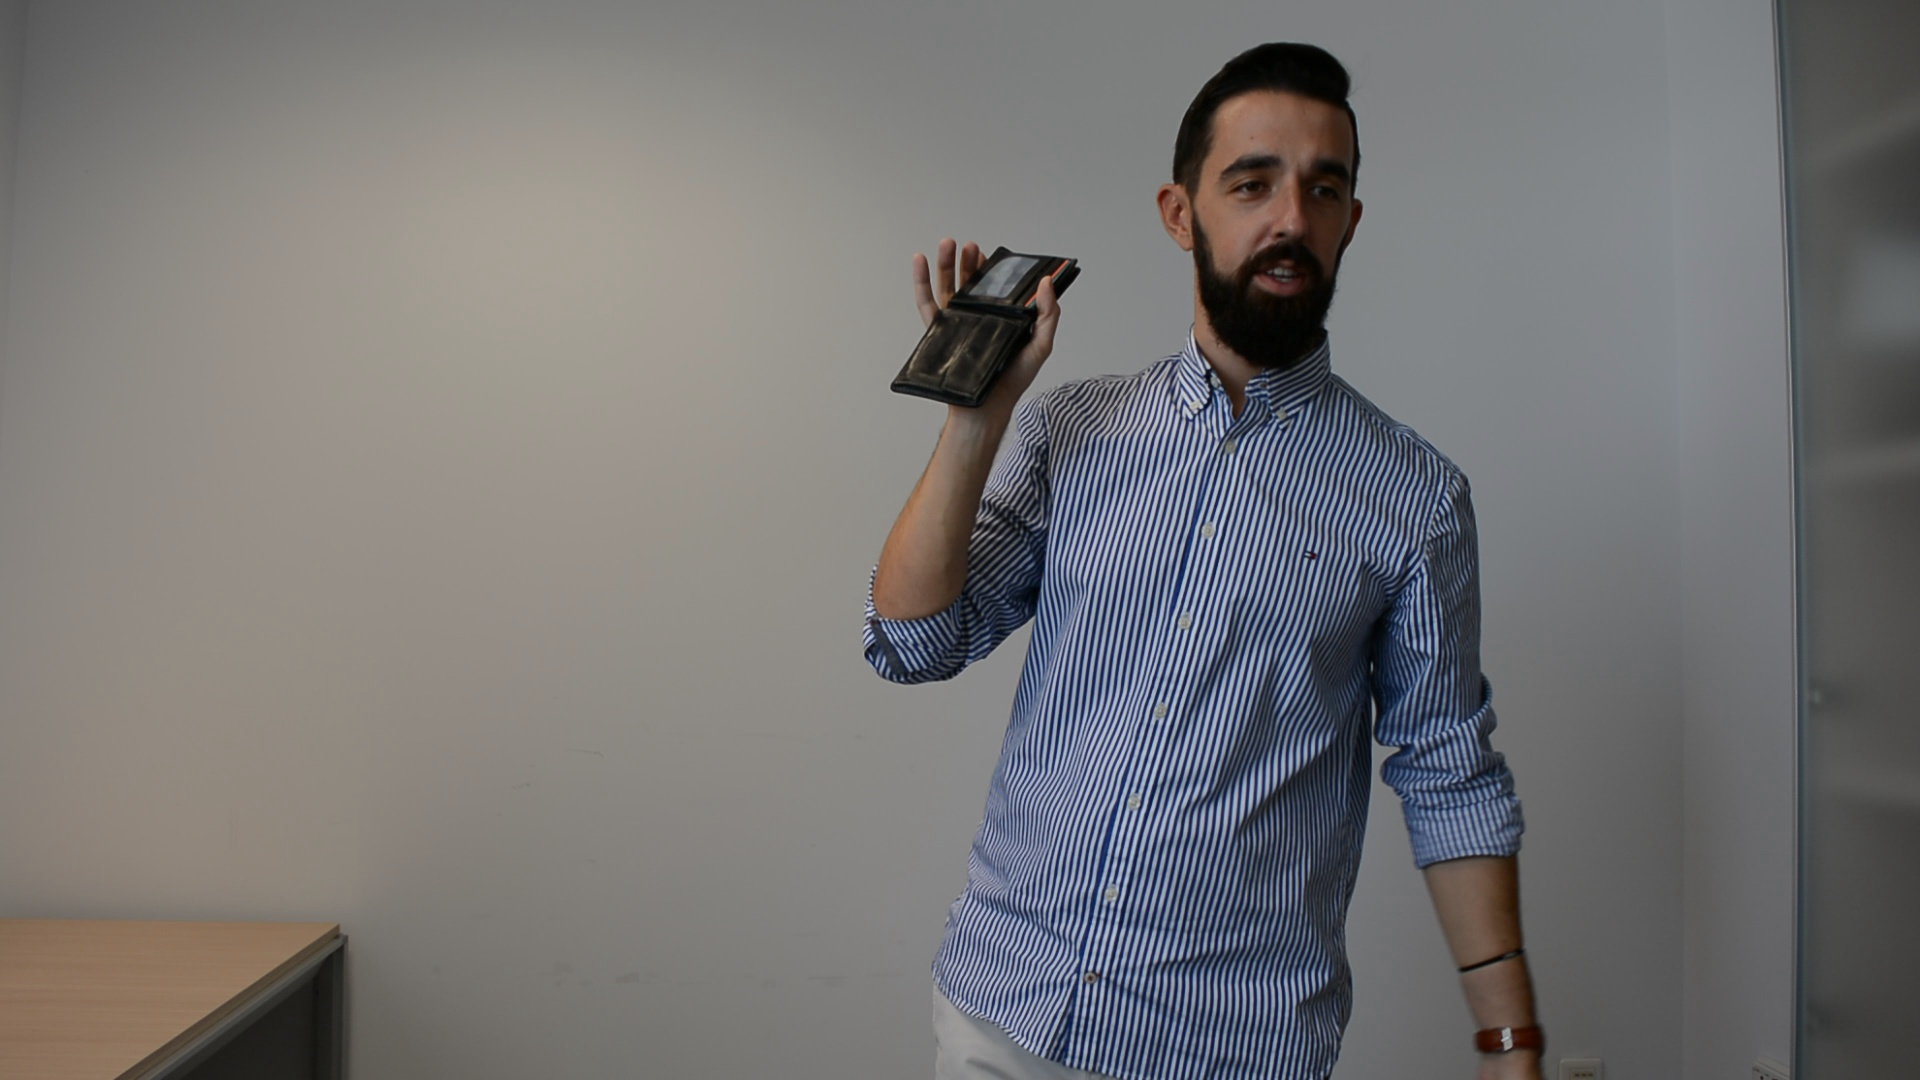monedero: (887, 243, 1083, 411)
